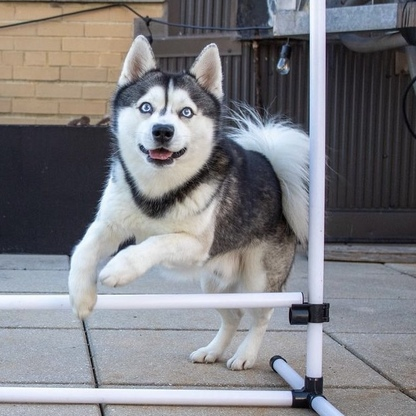husky: (64, 32, 308, 374)
